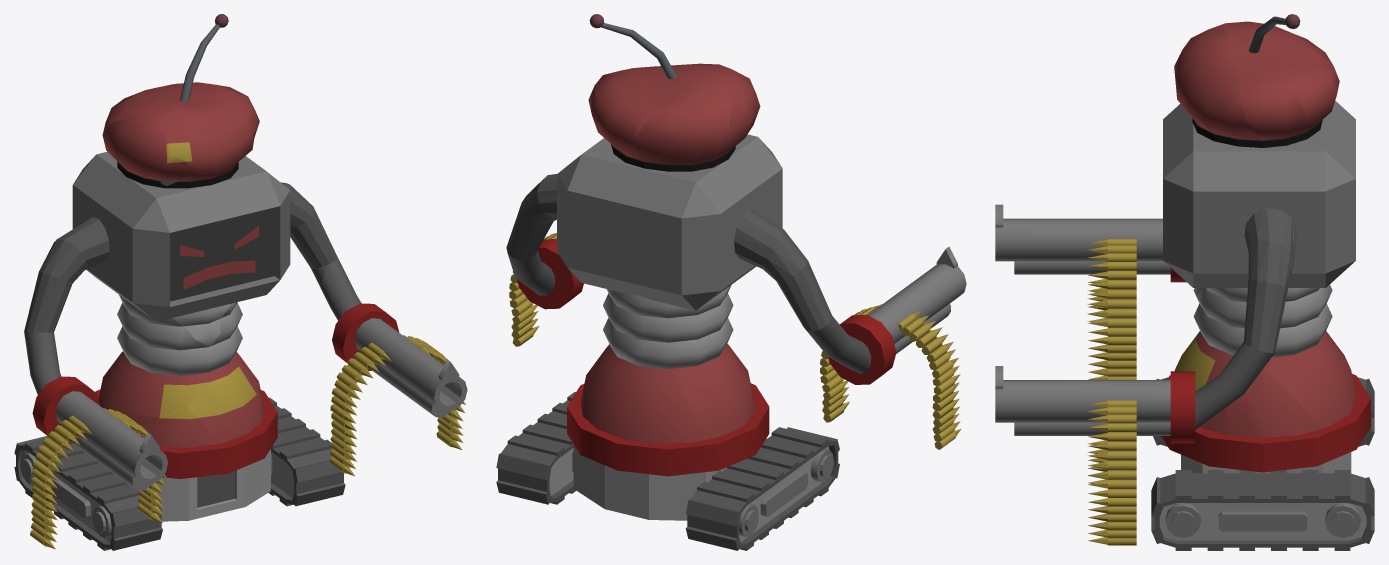
File: EnemyFracturedModell.FBX
3 renders of one model, left to right at view 1: azimuth 30°, elevation 25°; view 2: azimuth 150°, elevation 25°; view 3: azimuth 270°, elevation 25°, orthographic. The views are drawn at different scales.
Visible parts, largest first — view 1: RotatingHead_Part_8, RotatingHead_Part_9, Tire_Part_4, RotatingHead_Part_6, RotatingHead_Part_3, RotatingHead_Part_1, Tire_Part_3, Tire_Part_2, RotatingHead_Part_7, Tire_Part_1, RotatingHead_Part_5, RotatingHead_Part_2 (+4 smaller); view 2: RotatingHead_Part_10, RotatingHead_Part_9, RotatingHead_Part_6, Tire_Part_5, Tire_Part_7, RotatingHead_Part_2, Tire_Part_4, Tire_Part_1, Tire_Part_10, RotatingHead_Part_7, RotatingHead_Part_5, RotatingHead_Part_3 (+2 smaller); view 3: RotatingHead_Part_1, RotatingHead_Part_3, RotatingHead_Part_6, RotatingHead_Part_4, RotatingHead_Part_5, Tire_Part_2, Tire_Part_10, RotatingHead_Part_2, Tire_Part_5, Tire_Part_6, Tire_Part_9, Tire_Part_3 (+3 smaller).
Boxes of the visible parts, x1=… form: RotatingHead_Part_8: x1=124, y1=155, x2=285, y2=345; RotatingHead_Part_9: x1=27, y1=118, x2=171, y2=318; Tire_Part_4: x1=49, y1=408, x2=240, y2=550; RotatingHead_Part_6: x1=24, y1=315, x2=168, y2=549; RotatingHead_Part_3: x1=320, y1=248, x2=467, y2=476; RotatingHead_Part_1: x1=156, y1=101, x2=322, y2=266; Tire_Part_3: x1=187, y1=352, x2=271, y2=477; Tire_Part_2: x1=265, y1=410, x2=345, y2=506; RotatingHead_Part_7: x1=87, y1=270, x2=213, y2=375; Tire_Part_1: x1=57, y1=351, x2=209, y2=458; RotatingHead_Part_5: x1=210, y1=225, x2=333, y2=371; RotatingHead_Part_2: x1=140, y1=14, x2=228, y2=117; RotatingHead_Part_10: x1=580, y1=74, x2=733, y2=296; RotatingHead_Part_9: x1=681, y1=74, x2=825, y2=321; RotatingHead_Part_6: x1=798, y1=246, x2=966, y2=449; Tire_Part_5: x1=573, y1=344, x2=717, y2=469; Tire_Part_7: x1=579, y1=449, x2=772, y2=550; RotatingHead_Part_2: x1=564, y1=14, x2=728, y2=262; Tire_Part_4: x1=719, y1=374, x2=839, y2=528; Tire_Part_1: x1=670, y1=343, x2=769, y2=494; Tire_Part_10: x1=496, y1=404, x2=587, y2=504; RotatingHead_Part_7: x1=643, y1=266, x2=756, y2=369; RotatingHead_Part_5: x1=506, y1=214, x2=648, y2=366; RotatingHead_Part_3: x1=509, y1=233, x2=583, y2=346; RotatingHead_Part_1: x1=1163, y1=25, x2=1311, y2=303; RotatingHead_Part_3: x1=995, y1=333, x2=1267, y2=545; RotatingHead_Part_6: x1=995, y1=204, x2=1186, y2=379; RotatingHead_Part_4: x1=1240, y1=68, x2=1355, y2=262; RotatingHead_Part_5: x1=1176, y1=254, x2=1355, y2=365; Tire_Part_2: x1=1151, y1=470, x2=1280, y2=550; Tire_Part_10: x1=1278, y1=429, x2=1374, y2=550; RotatingHead_Part_2: x1=1223, y1=14, x2=1355, y2=215; Tire_Part_5: x1=1264, y1=331, x2=1370, y2=443; Tire_Part_6: x1=1182, y1=392, x2=1279, y2=492; Tire_Part_9: x1=1245, y1=368, x2=1319, y2=489; Tire_Part_3: x1=1161, y1=335, x2=1233, y2=463.
Bounding box in the file's own units: 99.52 × 104 × 70.86.
